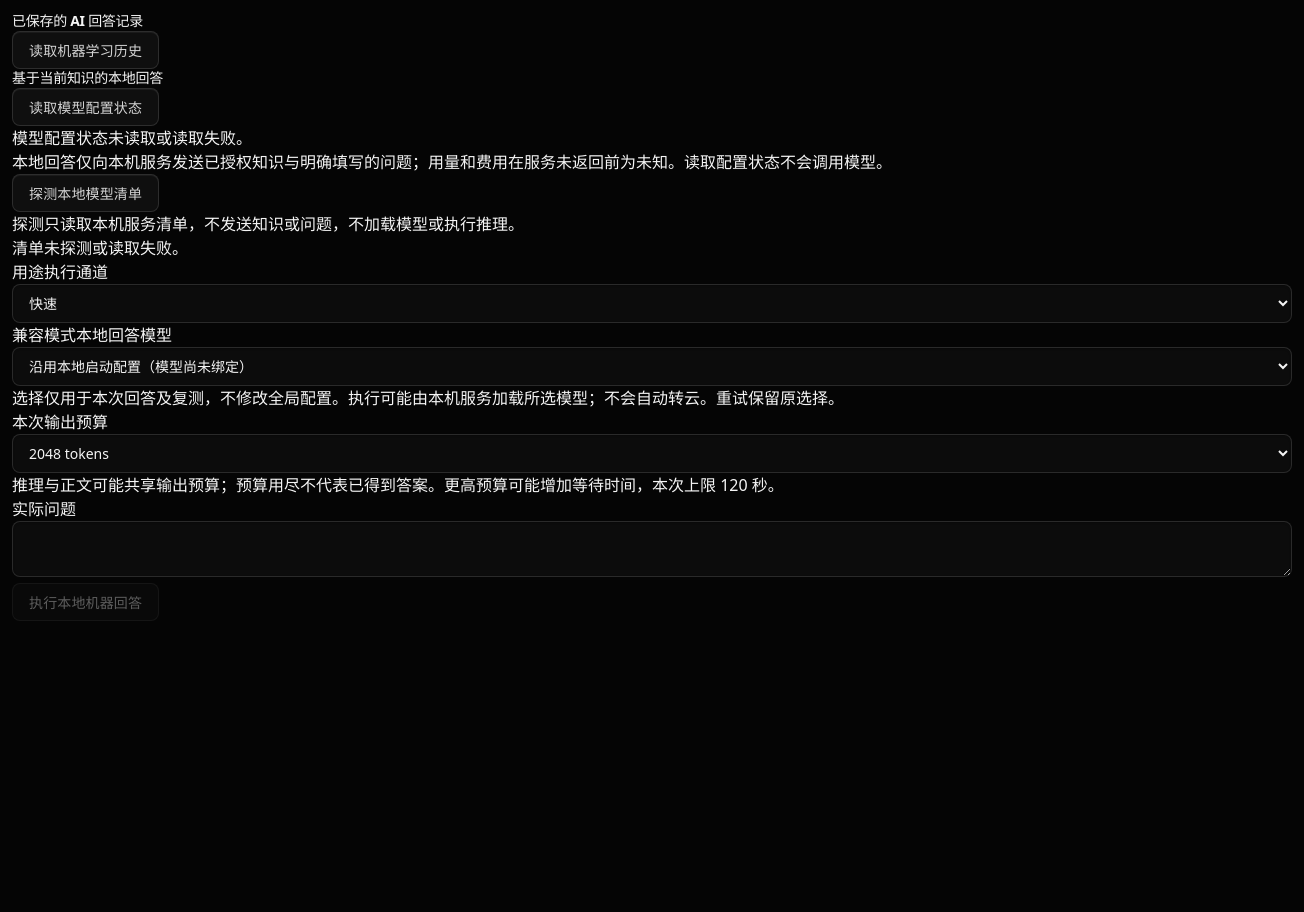
Test: wrong asset receipt grant cannot publish a model answer
In the text box labelled "实际问题": (652, 549) [12,521,1292,577], type "问题"
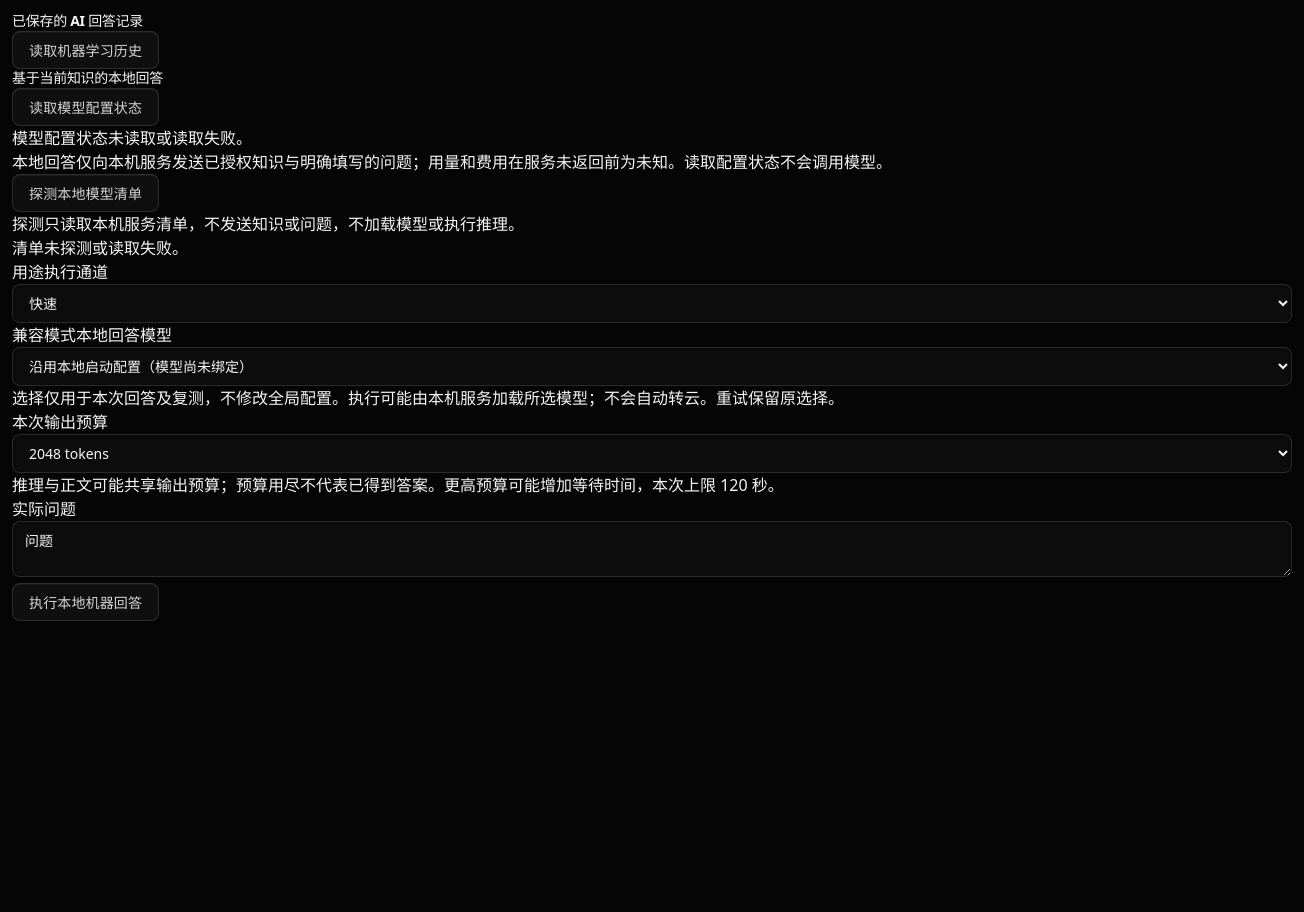
Click the button "执行本地机器回答": (86, 602) [12,583,159,621]
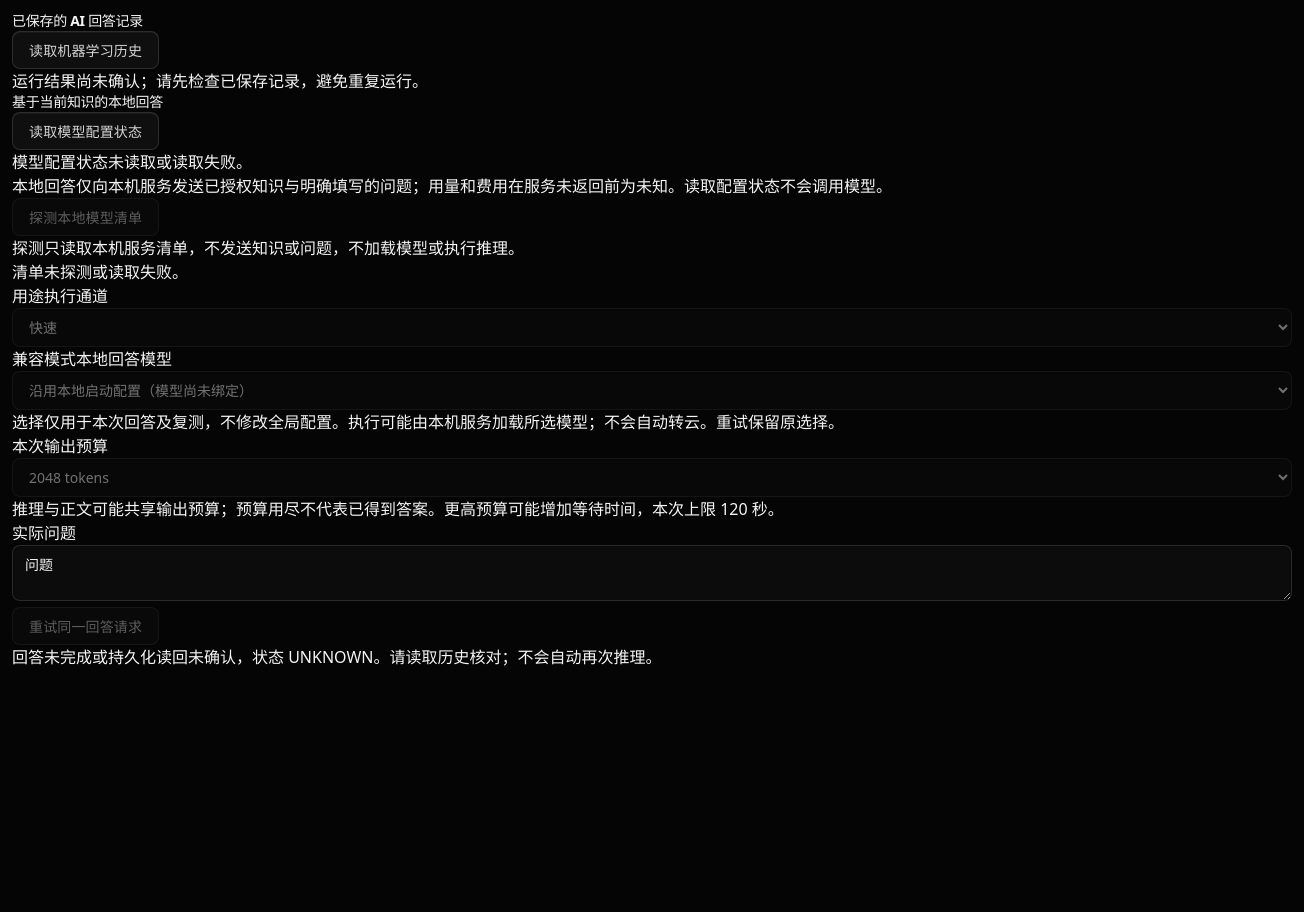
Expected: the text "回答未完成或持久化读回未确认，状态 UNKNOWN。请读取历史核对；不会自动再次推理。" is shown, [12,646,662,668]
